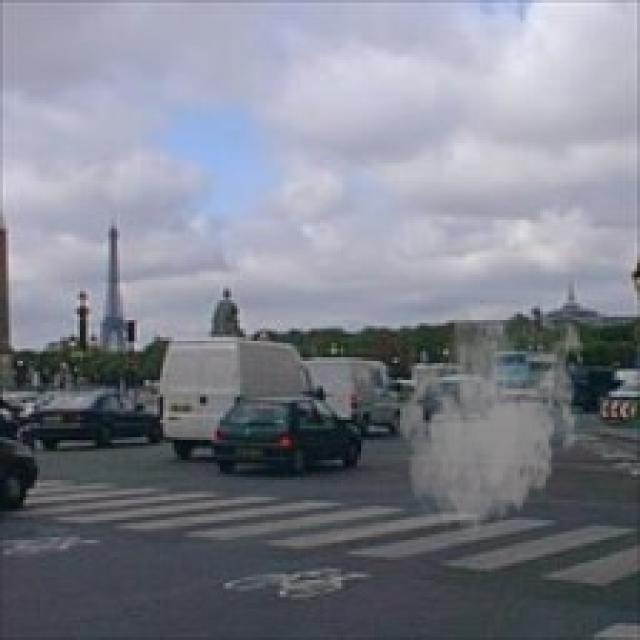smoke: (388, 286, 588, 540)
